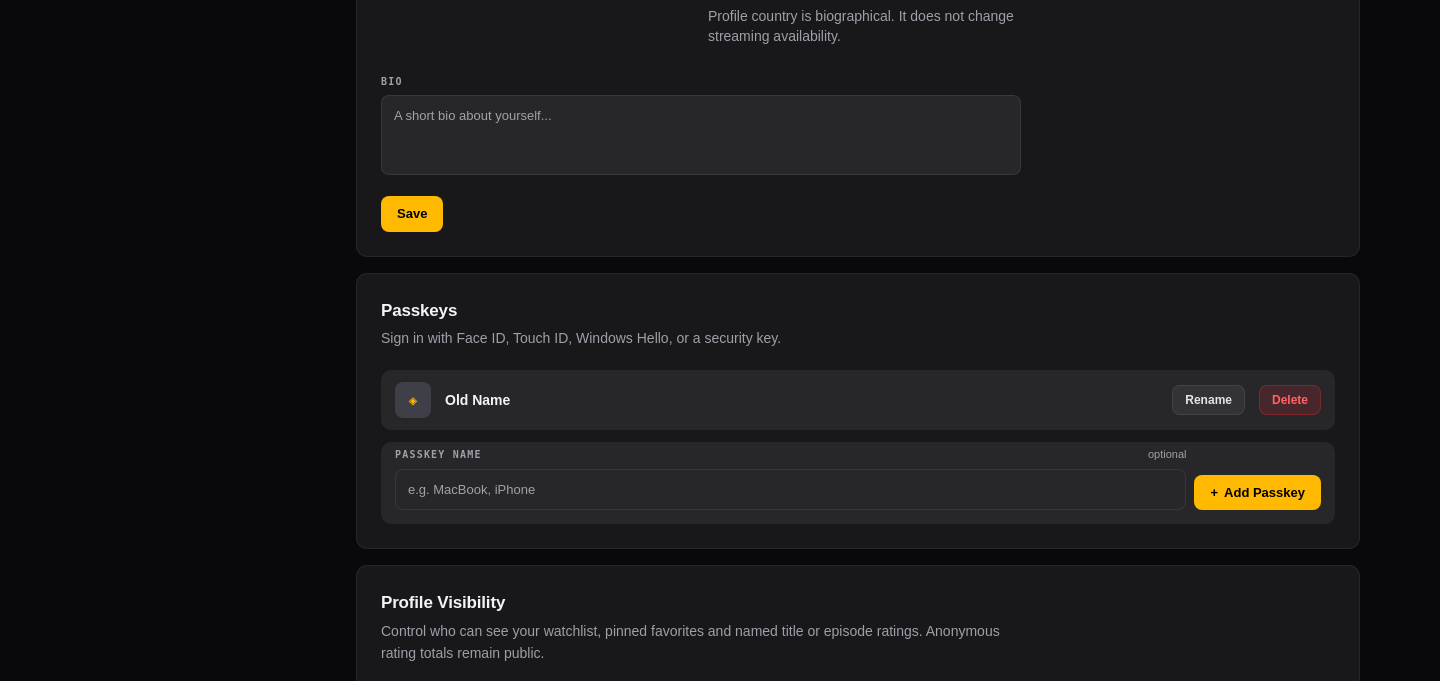
PasskeySection › rename success: shows success message and exits edit mode
(page scrolled)
Expected: the text "Old Name" is shown, [445, 392, 510, 408]
Click the button "Rename": click(1209, 400) [1172, 385, 1245, 415]
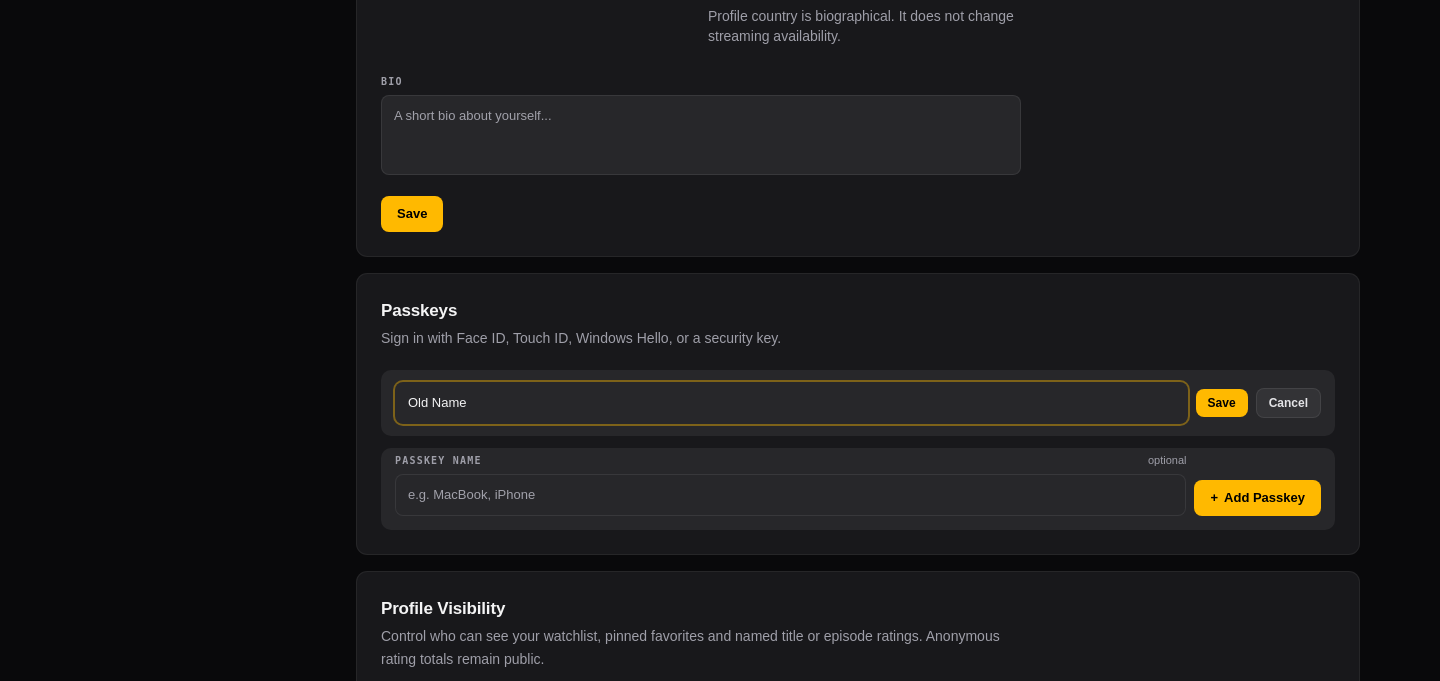
Replace the text in the field named "Passkey name" with "New Name": (791, 403) [395, 382, 1188, 424]
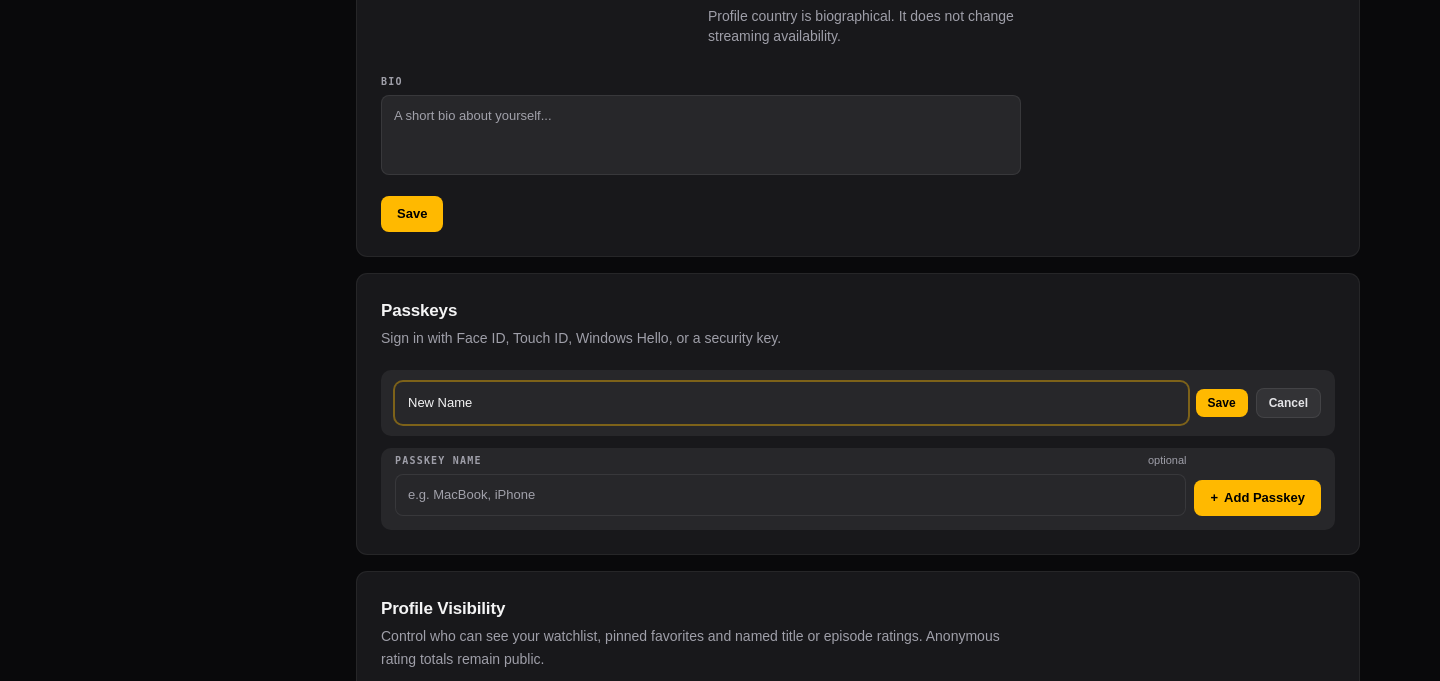
Click the 2nd button "Save": click(1222, 403) [1196, 389, 1248, 417]
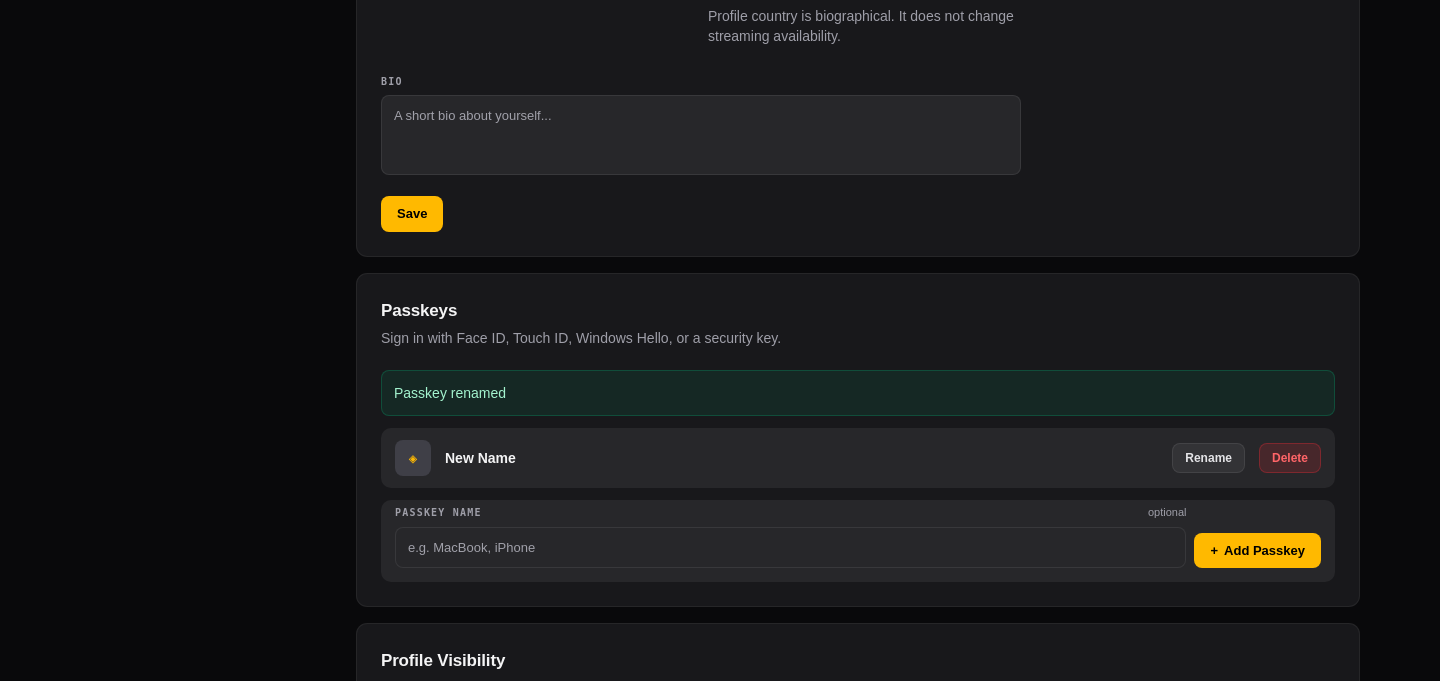
Result: the text "Passkey renamed" is shown at [381, 370, 1335, 416]
